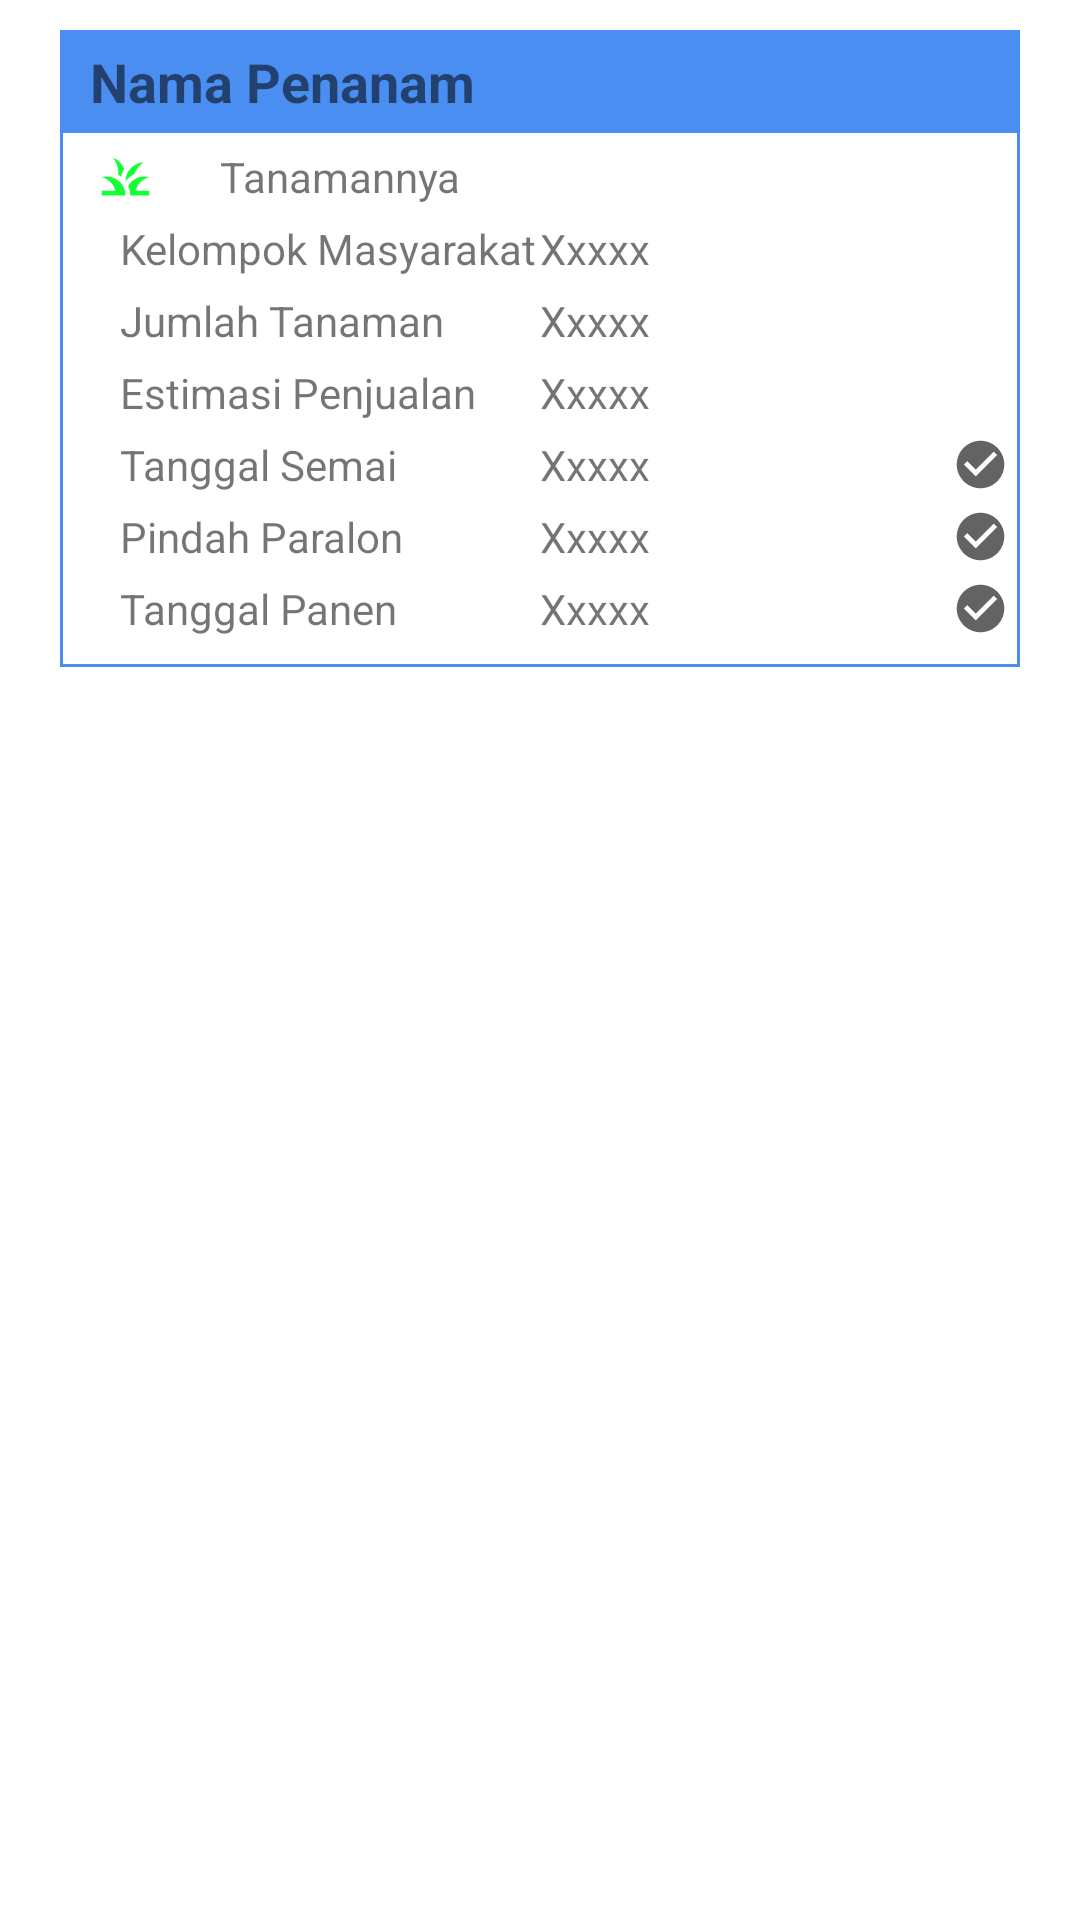

Named icons in this screenshot (1080 × 1920) and their bounding boxes, (x1, y1, x2, y2):
check circle abuabu: (956, 440, 1005, 489), (956, 512, 1005, 561), (956, 584, 1005, 633)
grass: (101, 157, 150, 196)
